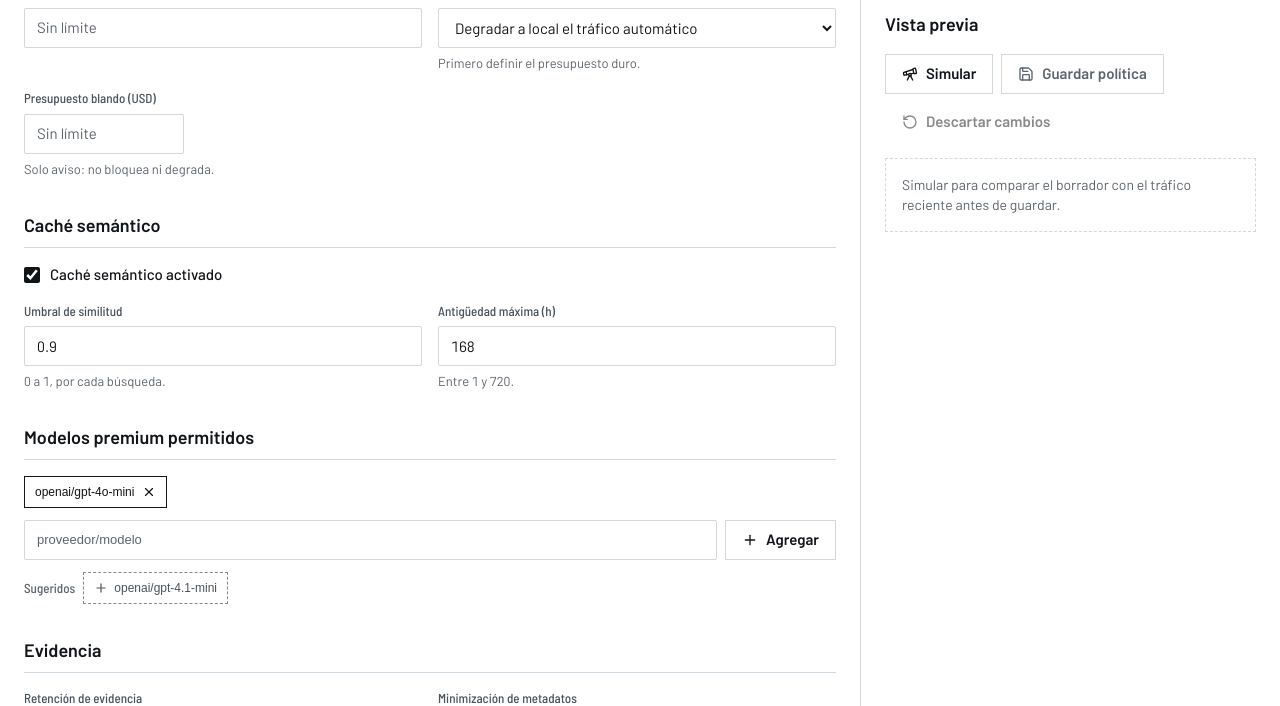
Test: policy-form › links a field's hint and its error to the field for screen readers
(page scrolled)
Replace the text in the field labelled "Umbral de similitud" with "1.2" at (223, 346), box [24, 326, 422, 366]
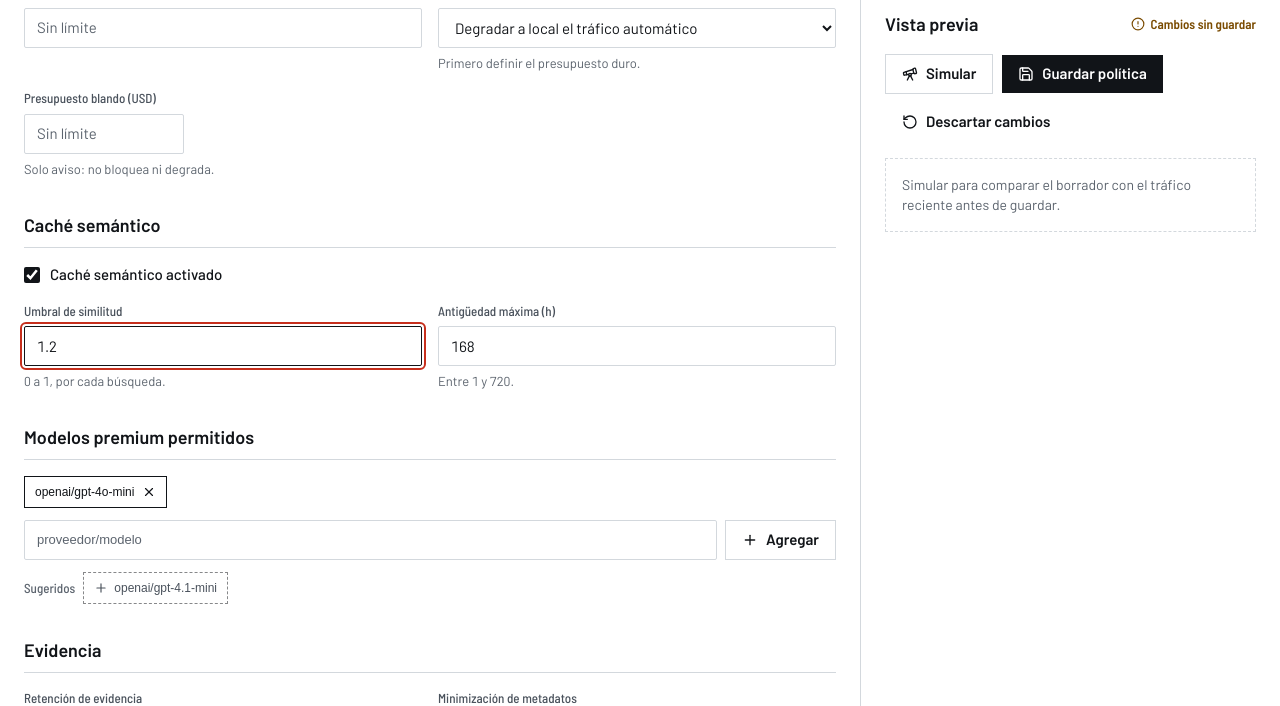
Click the button "Guardar política" at (1083, 74), box [1001, 54, 1164, 94]
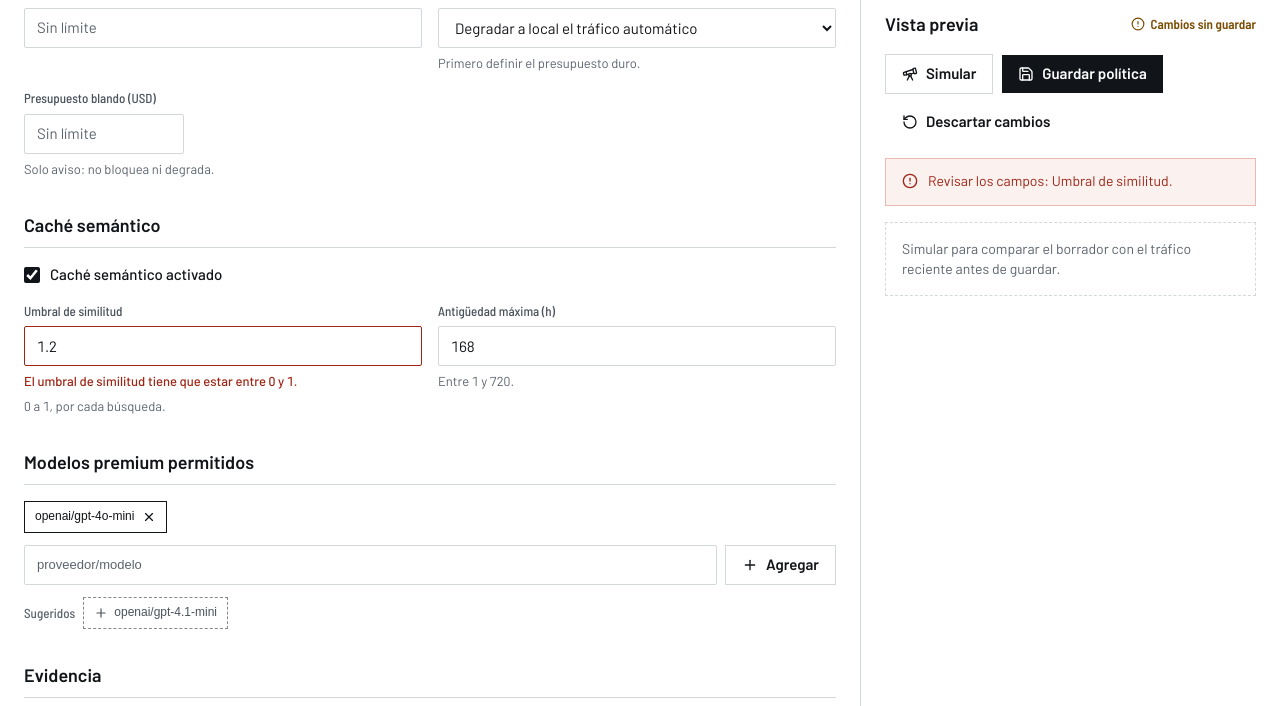
expect the text "El umbral de similitud tiene que estar entre 0 y 1." is shown: met, box [24, 373, 297, 389]
